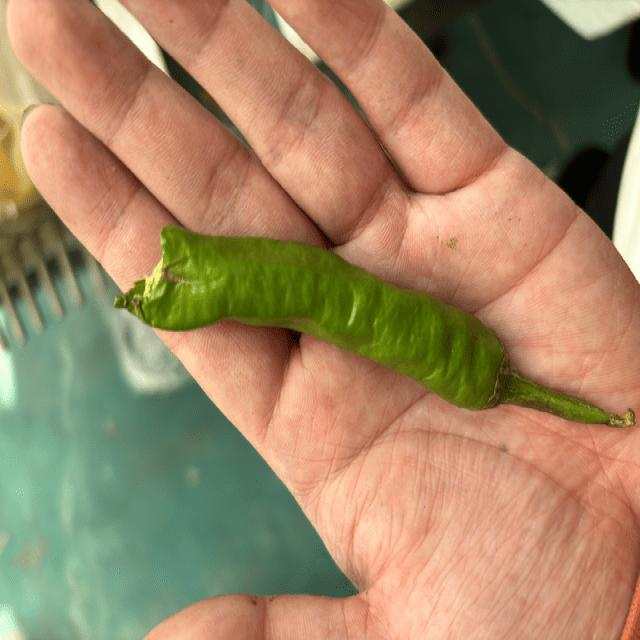chili: (110, 222, 513, 413)
